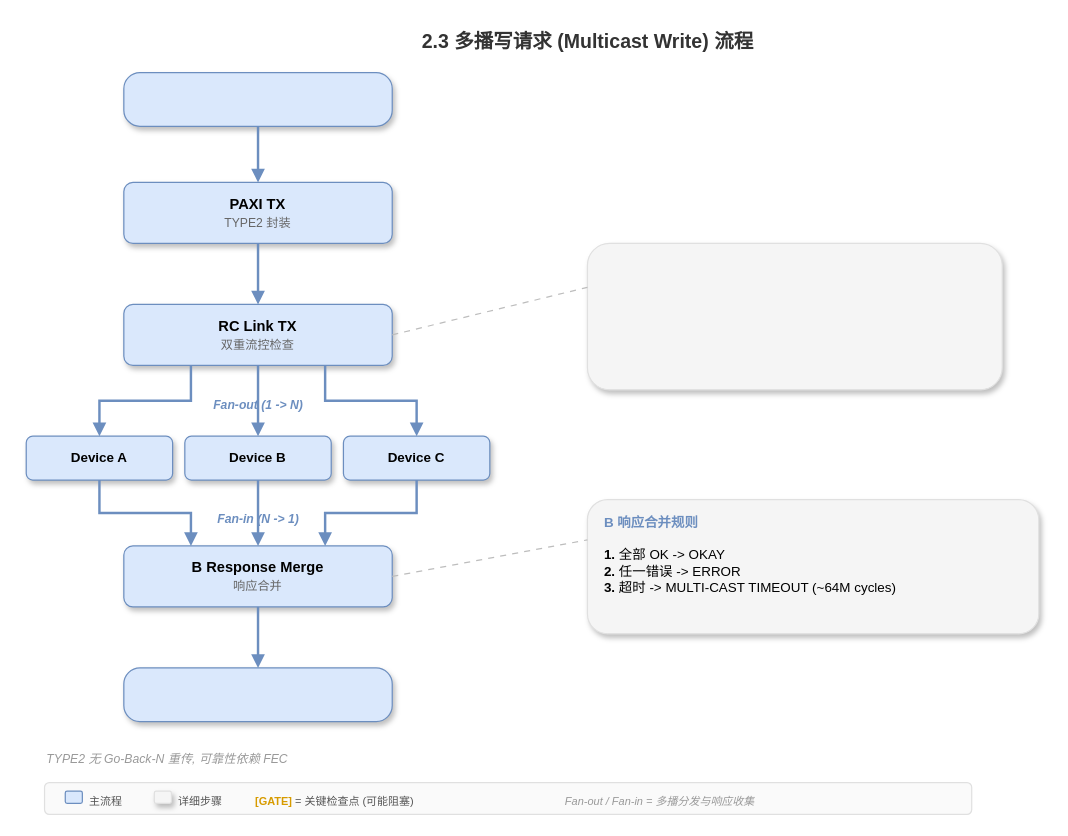
The diagram is 1068 pixels wide and 836 high, and some of its shapes have lost their labels. Each missing label, with the centre of its shape:
"AXI Master AW+W, Multicast=1, VC=4" goes at point 259,100.
"AXI Master 接收单个 B 响应" goes at point 259,696.
"双重流控 1. CBFC VC4 Credit 检查 [GATE] 2. 多播专用 Credit 检查 [GATE] 两者都满足才允许发送" goes at point 795,317.
